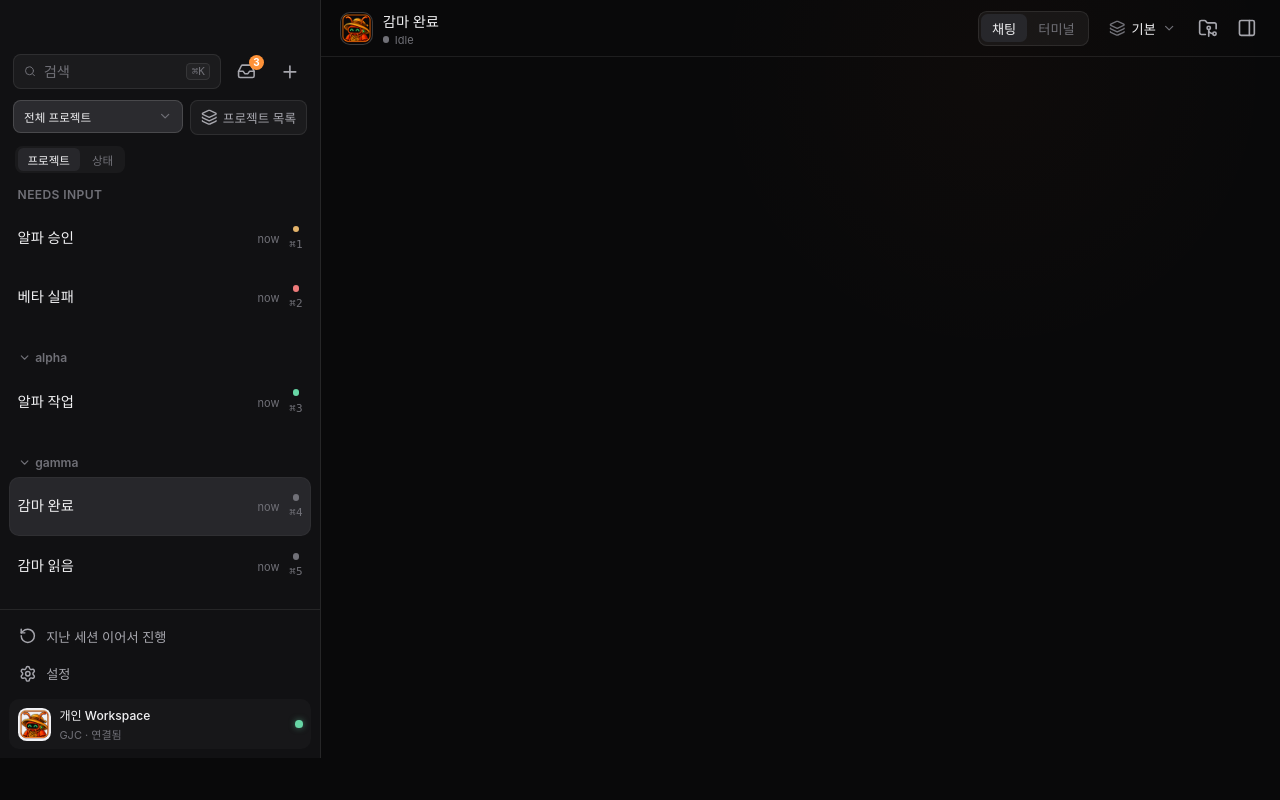
Test: Inbox inside the shell › lists every project's sessions by group, opens the clicked one and marks it read
Expected: the text with class "inbox-entry__count" reads "3", [253, 56, 260, 68]
What coordinates should you click on to do the following:
click the button with class "inbox-entry"
I would click on:
 (246, 72)
Its box is [229, 54, 264, 89].
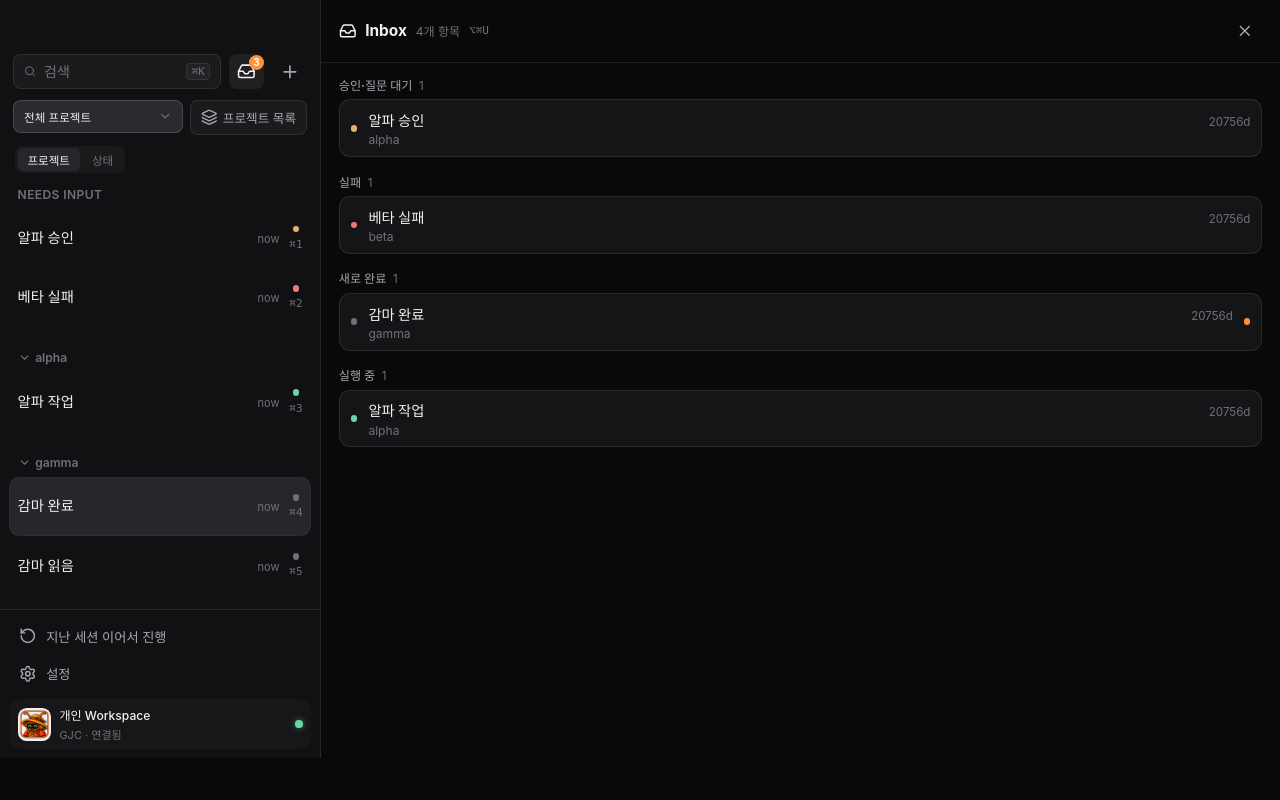
Expected: the element with class "inbox-view" does not show "감마 읽음"
Result: the element with class "inbox-view" is shown
What coordinates should you click on to do the following:
click the button with class "inbox-row__button" showing "베타 실패 20756d beta"
I would click on:
 (396, 217)
Its box is [340, 197, 1261, 253].
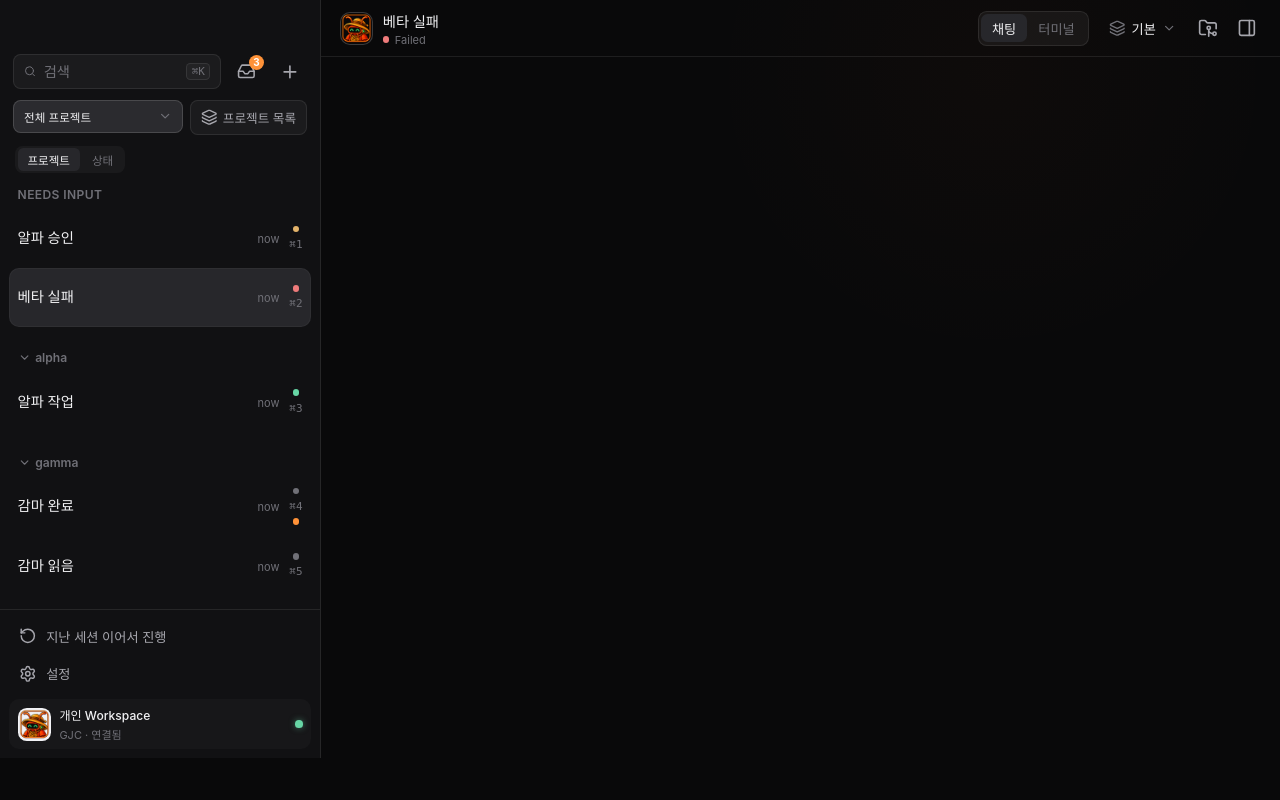
Result: the element with class "inbox-view" is gone
